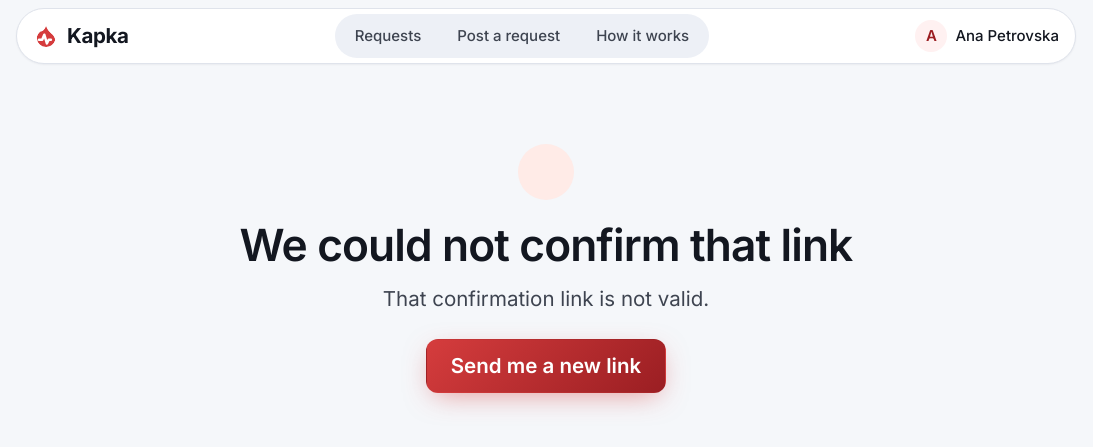
Test case: confirming a donor email › offers a signed-in donor another link
This screenshot has width=1093, height=447.
Click the button "Send me a new link" at (546, 366), box x1=426 y1=339 x2=666 y2=393
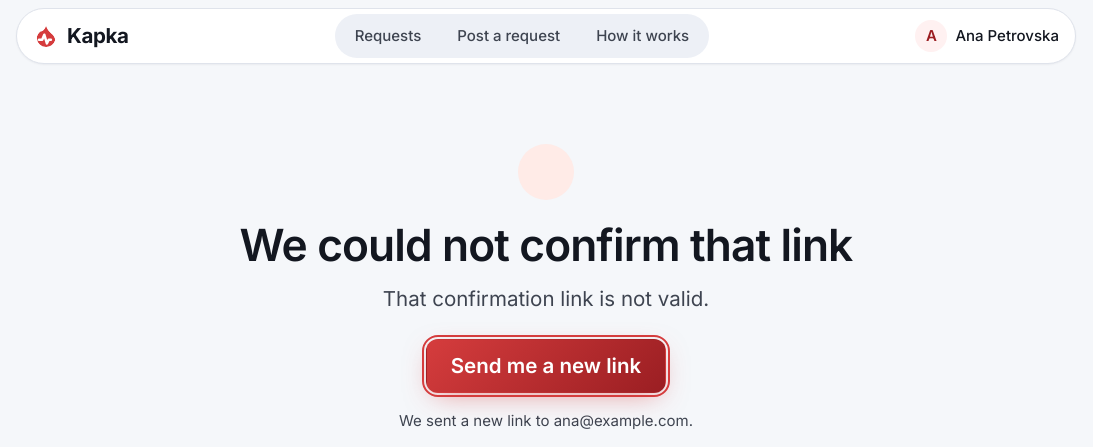
Expected: the text "We sent a new link to ana@example.com." is shown, x1=399 y1=411 x2=693 y2=430
